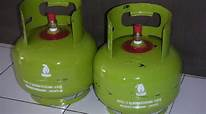gas_ijo: (93, 2, 183, 114), (12, 1, 97, 106)
